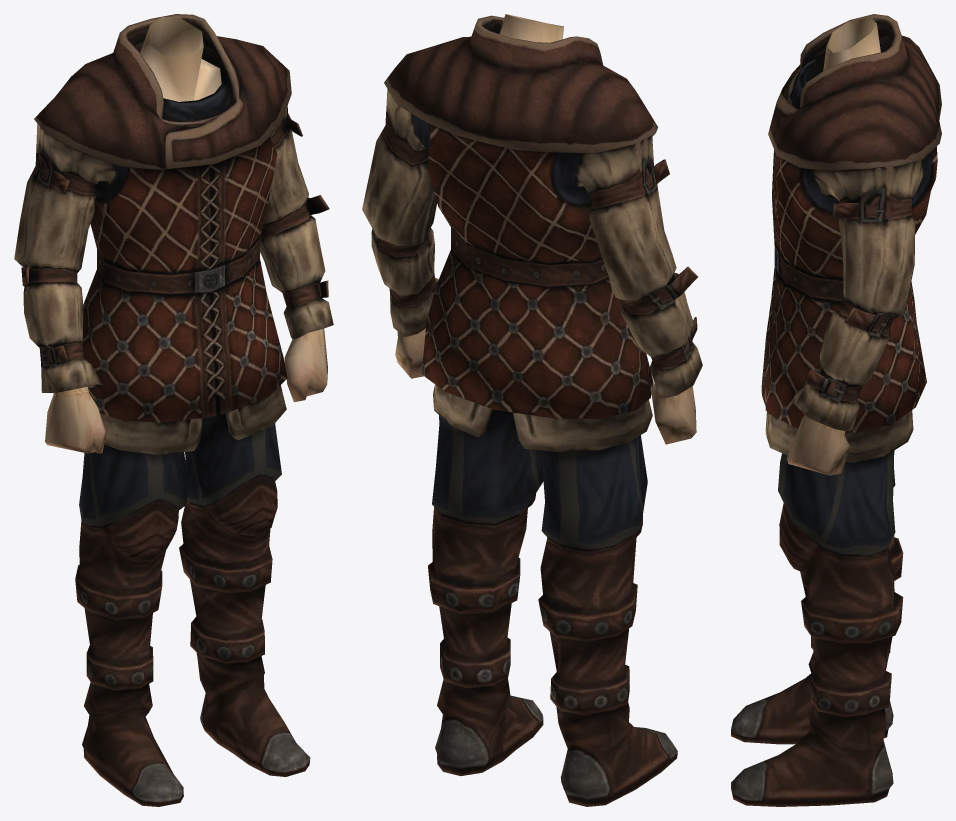
The model's file is ARMOR_HER_N.glb.
3 renders of one model, left to right at view 1: azimuth 30°, elevation 25°; view 2: azimuth 150°, elevation 25°; view 3: azimuth 270°, elevation 25°, orthographic. The views are drawn at different scales.
Parts seen in each view (by area): view 1: ARMOR_HER_N; view 2: ARMOR_HER_N; view 3: ARMOR_HER_N.
Part boxes in pixels (bbox=[...]): ARMOR_HER_N: bbox=[14, 14, 333, 806]; ARMOR_HER_N: bbox=[362, 14, 702, 806]; ARMOR_HER_N: bbox=[731, 14, 941, 806].
Size of the model in its own units: 0.7377 by 1.68 by 0.4326.
Materials: 2 (2 with a texture image).
